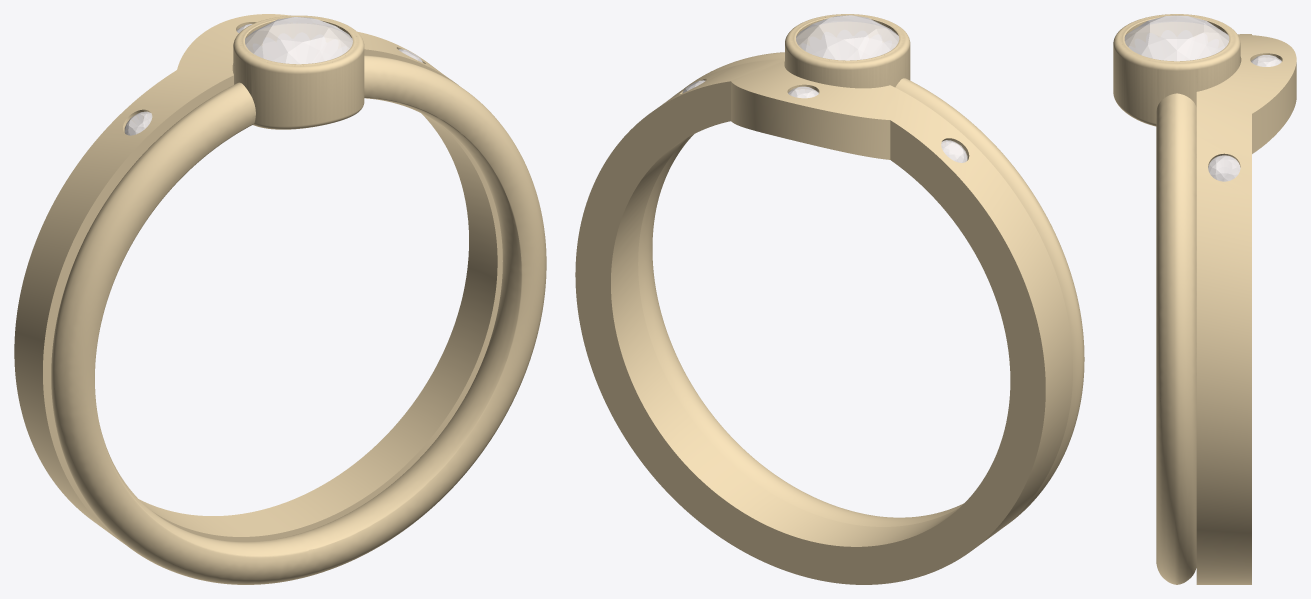
The model's file is golden-ring.glb.
The picture shows the model from 3 angles, left to right: view 1: azimuth 30°, elevation 25°; view 2: azimuth 150°, elevation 25°; view 3: azimuth 270°, elevation 25°; orthographic projection. The views are drawn at different scales.
Parts seen in each view (by area): view 1: Object_1_/Yellow Gold-8508952d-1574-41b6-8512-d7f9eb00d480_0, Diamond_Round; view 2: Object_1_/Yellow Gold-8508952d-1574-41b6-8512-d7f9eb00d480_0, Diamond_Round; view 3: Object_1_/Yellow Gold-8508952d-1574-41b6-8512-d7f9eb00d480_0, Diamond_Round, Diamond_Round_3, Diamond_Round_2.
Boxes of the visible parts, bbox=[...] form: Object_1_/Yellow Gold-8508952d-1574-41b6-8512-d7f9eb00d480_0: bbox=[14, 14, 546, 584]; Diamond_Round: bbox=[245, 17, 352, 64]; Object_1_/Yellow Gold-8508952d-1574-41b6-8512-d7f9eb00d480_0: bbox=[575, 14, 1084, 584]; Diamond_Round: bbox=[796, 15, 899, 60]; Object_1_/Yellow Gold-8508952d-1574-41b6-8512-d7f9eb00d480_0: bbox=[1113, 14, 1296, 584]; Diamond_Round: bbox=[1124, 15, 1229, 61]; Diamond_Round_3: bbox=[1208, 155, 1240, 181]; Diamond_Round_2: bbox=[1251, 55, 1281, 66].
Size of the model in its own units: 0.0199 by 0.0212 by 0.00663.
